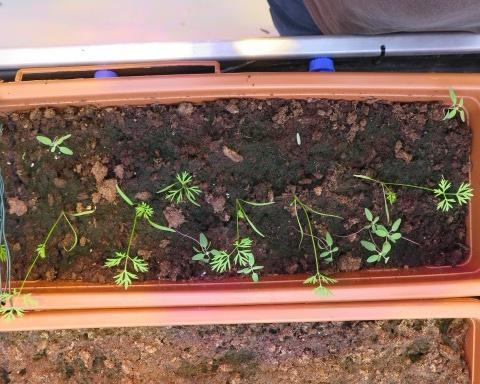weed: (31, 130, 74, 156)
